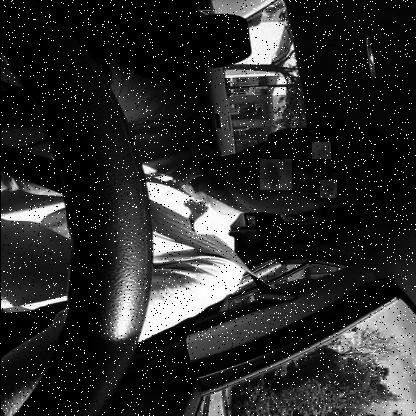seatbelt: (0, 105, 414, 307)
